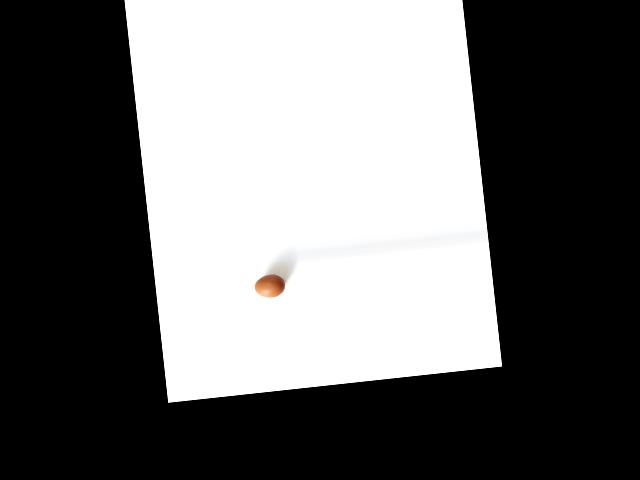egg: (253, 273, 286, 299)
